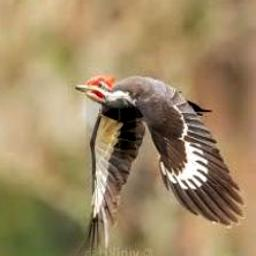Woodpecker: (75, 75, 244, 249)
